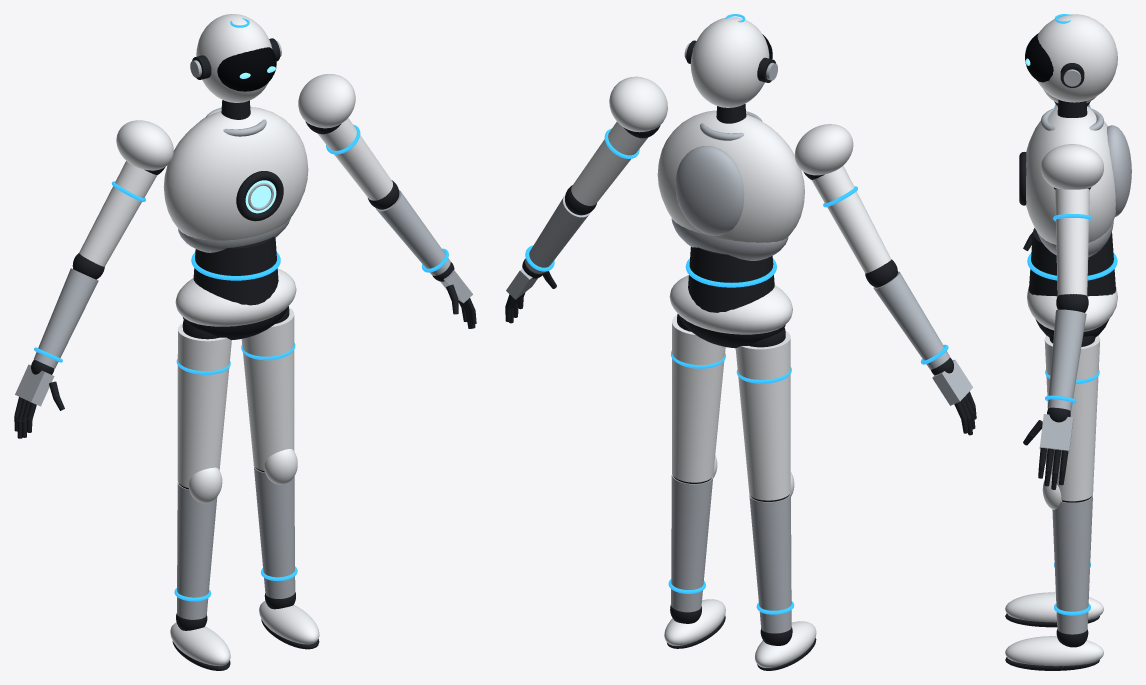
Rendered from jarvis.glb.
The picture shows the model from 3 angles, left to right: view 1: azimuth 30°, elevation 25°; view 2: azimuth 150°, elevation 25°; view 3: azimuth 270°, elevation 25°; orthographic projection.
Parts seen in each view (by area): view 1: chest_mesh4, hip_R_mesh70, hip_L_mesh60, knee_R_mesh74, knee_L_mesh64, spine_mesh2, pelvis_mesh1, head_mesh12, shoulder_R_mesh42, elbow_R_mesh45, shoulder_L_mesh23, shoulder_L_mesh22 (+11 smaller); view 2: chest_mesh4, hip_R_mesh70, hip_L_mesh60, head_mesh12, chest_mesh6, knee_R_mesh74, knee_L_mesh64, spine_mesh2, pelvis_mesh1, shoulder_R_mesh42, elbow_R_mesh45, shoulder_L_mesh23 (+8 smaller); view 3: chest_mesh4, head_mesh12, knee_L_mesh64, hip_L_mesh60, shoulder_L_mesh23, elbow_L_mesh26, spine_mesh2, shoulder_L_mesh22, ankle_L_mesh67, pelvis_mesh1, ankle_R_mesh77, chest_mesh6 (+16 smaller).
Part boxes in pixels (left/top/right/bottom): chest_mesh4: left=163, top=107, right=308, bottom=240; hip_R_mesh70: left=177, top=323, right=231, bottom=487; hip_L_mesh60: left=241, top=307, right=294, bottom=470; knee_R_mesh74: left=177, top=481, right=217, bottom=619; knee_L_mesh64: left=253, top=465, right=295, bottom=598; spine_mesh2: left=193, top=237, right=278, bottom=305; pelvis_mesh1: left=175, top=268, right=296, bottom=326; head_mesh12: left=196, top=14, right=272, bottom=102; shoulder_R_mesh42: left=79, top=161, right=157, bottom=266; elbow_R_mesh45: left=34, top=268, right=98, bottom=368; shoulder_L_mesh23: left=317, top=118, right=392, bottom=200; shoulder_L_mesh22: left=298, top=74, right=355, bottom=128; chest_mesh4: left=657, top=110, right=804, bottom=242; hip_R_mesh70: left=735, top=331, right=790, bottom=500; hip_L_mesh60: left=672, top=315, right=725, bottom=482; head_mesh12: left=690, top=17, right=769, bottom=107; chest_mesh6: left=675, top=146, right=744, bottom=235; knee_R_mesh74: left=749, top=493, right=791, bottom=633; knee_L_mesh64: left=671, top=474, right=713, bottom=612; spine_mesh2: left=688, top=247, right=774, bottom=312; pelvis_mesh1: left=669, top=275, right=792, bottom=334; shoulder_R_mesh42: left=811, top=165, right=891, bottom=273; elbow_R_mesh45: left=873, top=271, right=949, bottom=369; shoulder_L_mesh23: left=571, top=122, right=648, bottom=205; chest_mesh4: left=1026, top=106, right=1115, bottom=244; head_mesh12: left=1037, top=14, right=1117, bottom=102; knee_L_mesh64: left=1052, top=494, right=1092, bottom=634; hip_L_mesh60: left=1044, top=335, right=1100, bottom=501; shoulder_L_mesh23: left=1055, top=188, right=1089, bottom=295; elbow_L_mesh26: left=1047, top=309, right=1086, bottom=411; spine_mesh2: left=1029, top=228, right=1115, bottom=296; shoulder_L_mesh22: left=1040, top=144, right=1103, bottom=189; ankle_L_mesh67: left=1005, top=636, right=1103, bottom=666; pelvis_mesh1: left=1027, top=287, right=1117, bottom=331; ankle_R_mesh77: left=1005, top=592, right=1103, bottom=622; chest_mesh6: left=1107, top=125, right=1131, bottom=216.
Size of the model in its own units: 1.34 by 1.75 by 0.32.
